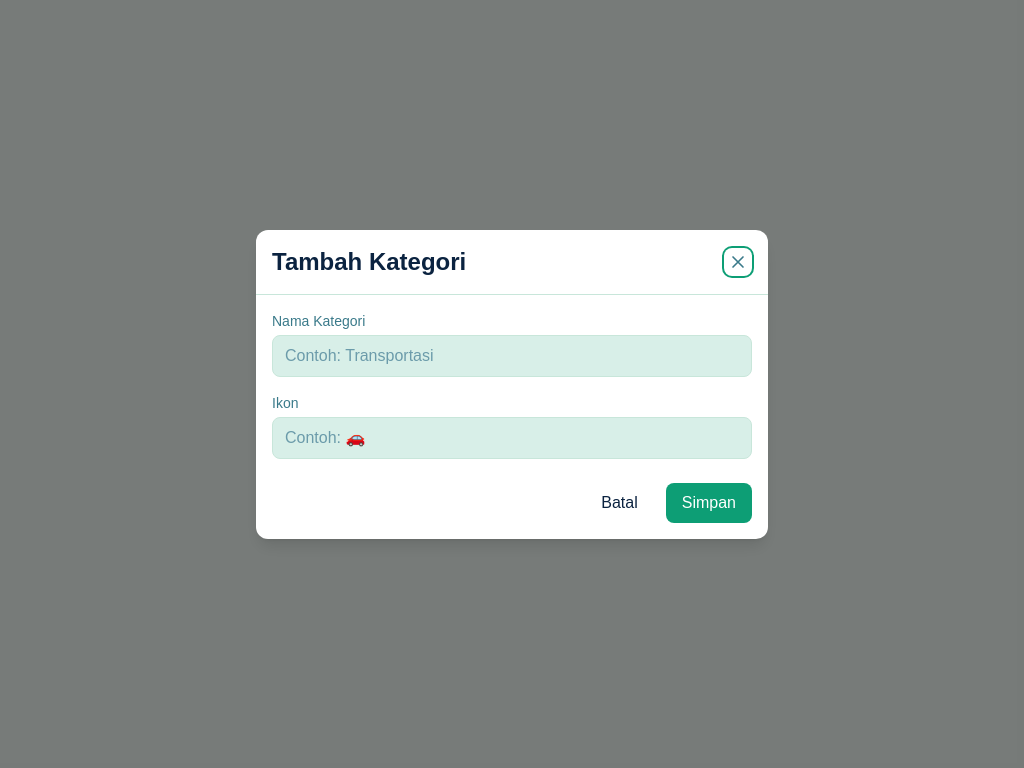
CategoryForm › shows error when name is empty
Type "📦" into the field labelled "Ikon" at (512, 438), box [272, 416, 752, 458]
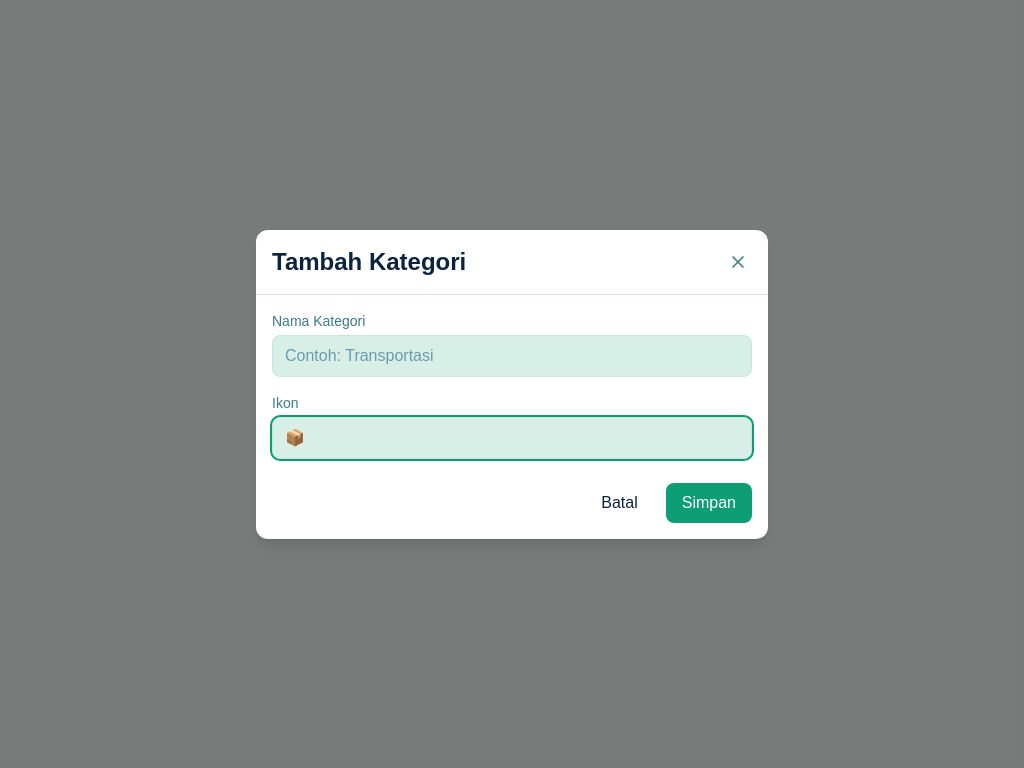
Click the button "Simpan" at (709, 502), box [666, 482, 752, 522]
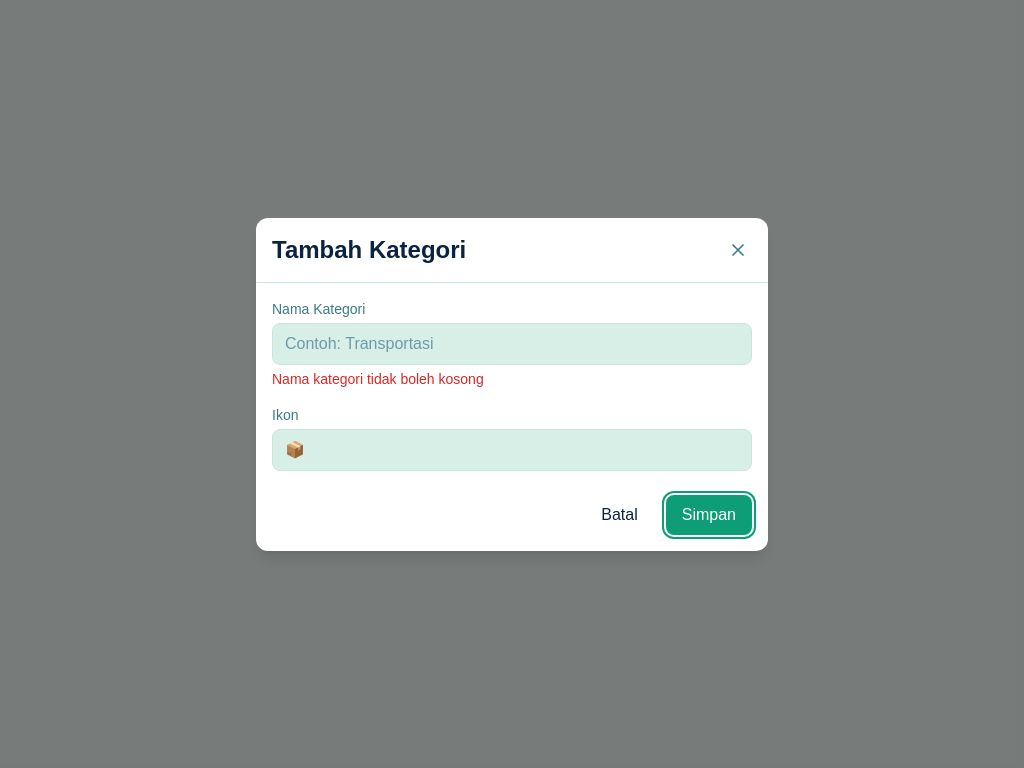
Check: the text "Nama kategori tidak boleh kosong" is shown, box [272, 370, 484, 386]
